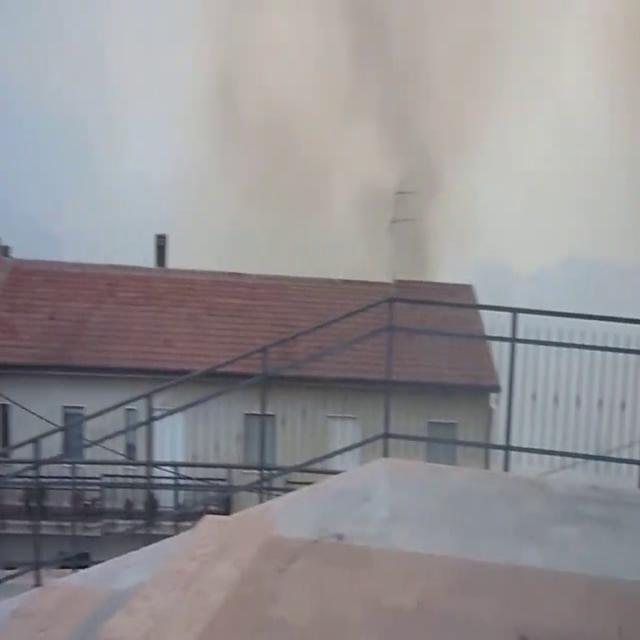Smoke: (116, 0, 522, 284)
